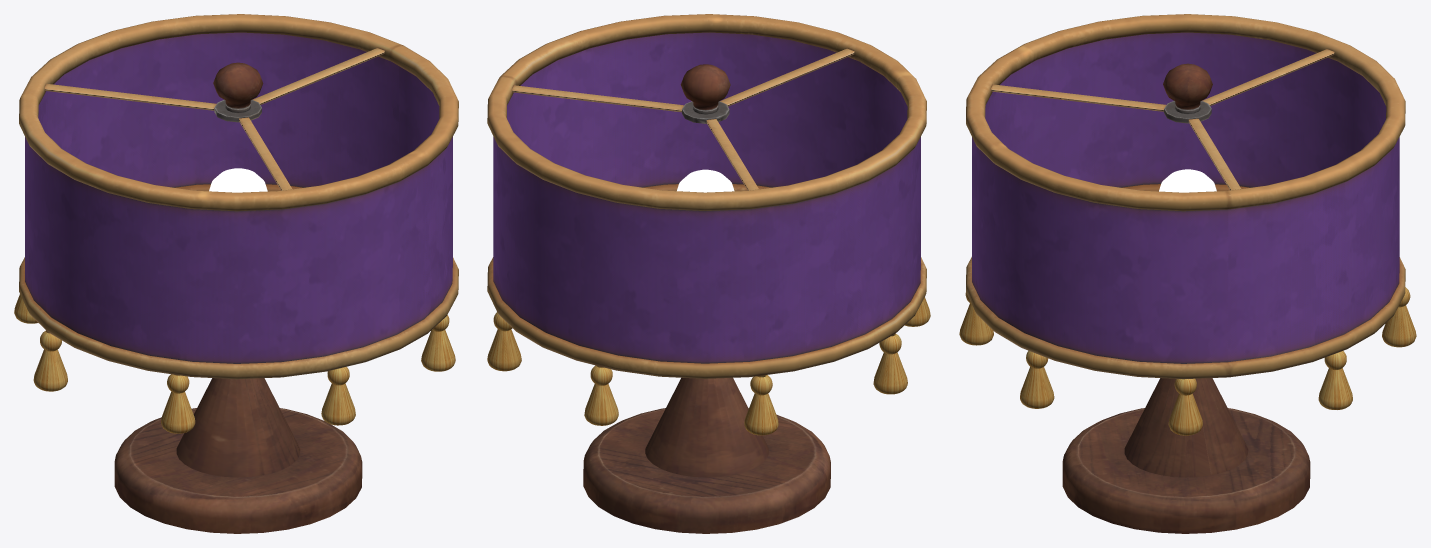
Rendered from SM_Lampe_01.fbx.
3 views of the same model, side by side, from view 1: azimuth 30°, elevation 25°; view 2: azimuth 150°, elevation 25°; view 3: azimuth 270°, elevation 25° (orthographic).
Parts seen in each view (by area): view 1: SM_Lampe_01_LOD0; view 2: SM_Lampe_01_LOD0; view 3: SM_Lampe_01_LOD0.
Boxes of the visible parts, x1,y1,x2,y2 form: SM_Lampe_01_LOD0: (14,14,458,533); SM_Lampe_01_LOD0: (487,14,930,533); SM_Lampe_01_LOD0: (959,14,1416,533).
Size of the model in its own units: 43.2 by 43.2 by 43.28.
1 material, 1 textured.
